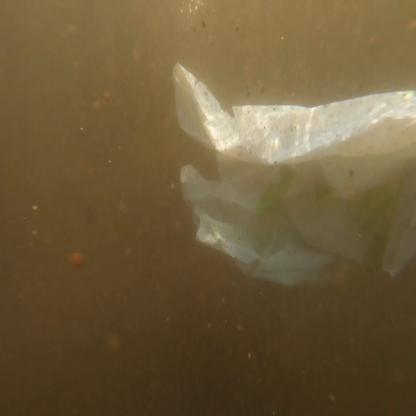Rác: (175, 66, 414, 278)
